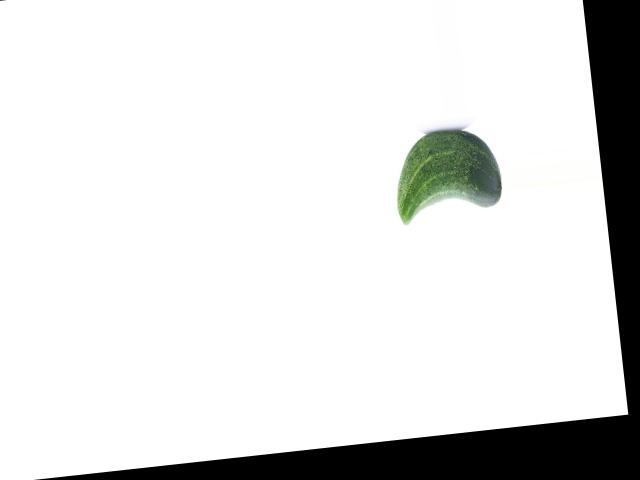cucumber: (388, 124, 504, 225)
